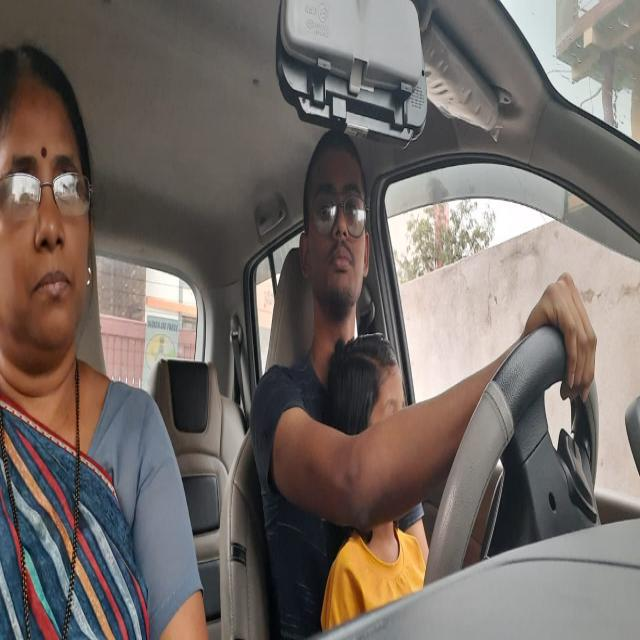child: (334, 334, 410, 420)
person: (2, 42, 94, 362), (303, 129, 371, 315)
